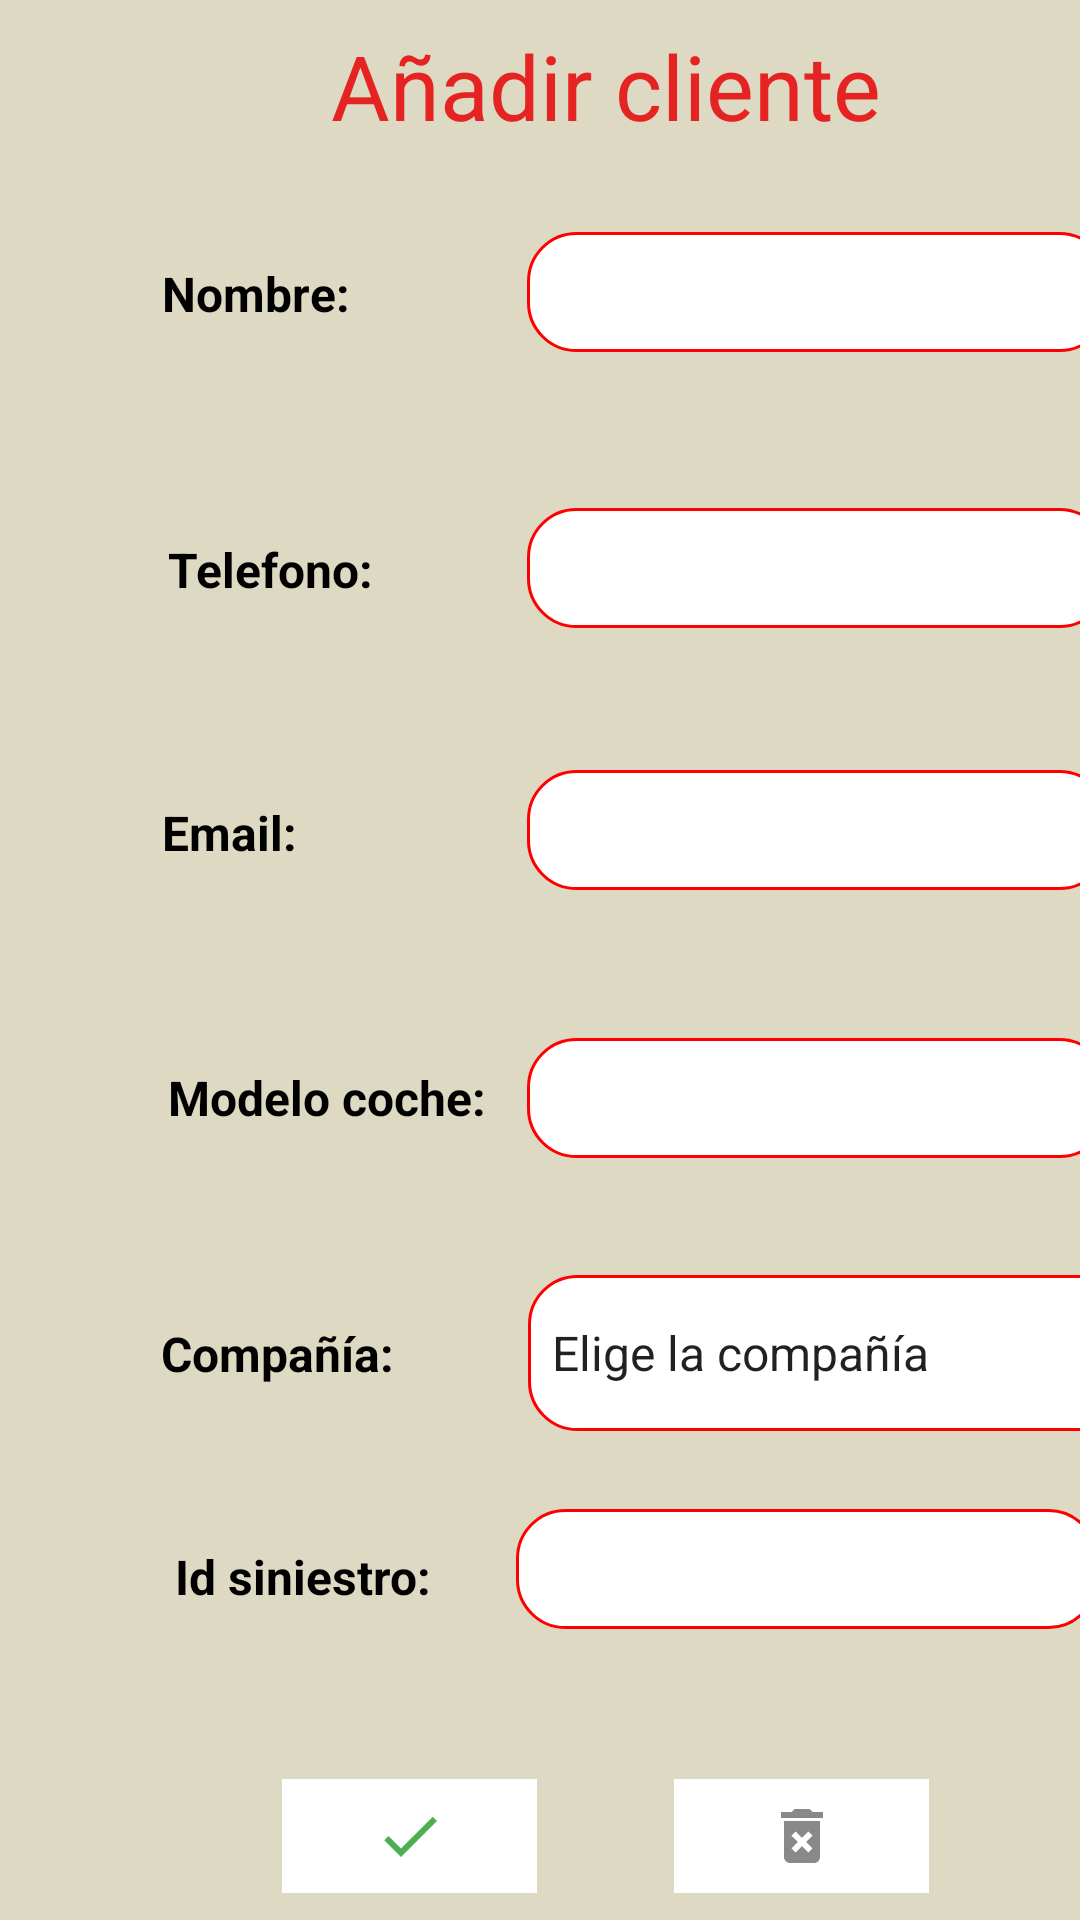

Icons on this 1080*1920 Android screen, each with its box as (x1, y1, x2, y2):
check: (282, 1779, 537, 1893)
delete: (674, 1779, 929, 1893)
